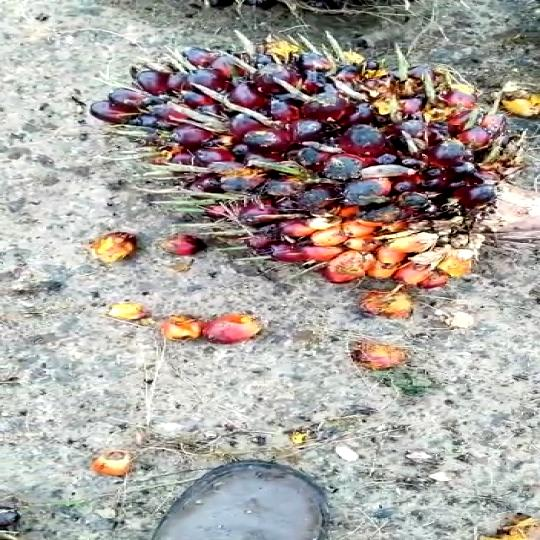masak: (84, 32, 539, 337)
